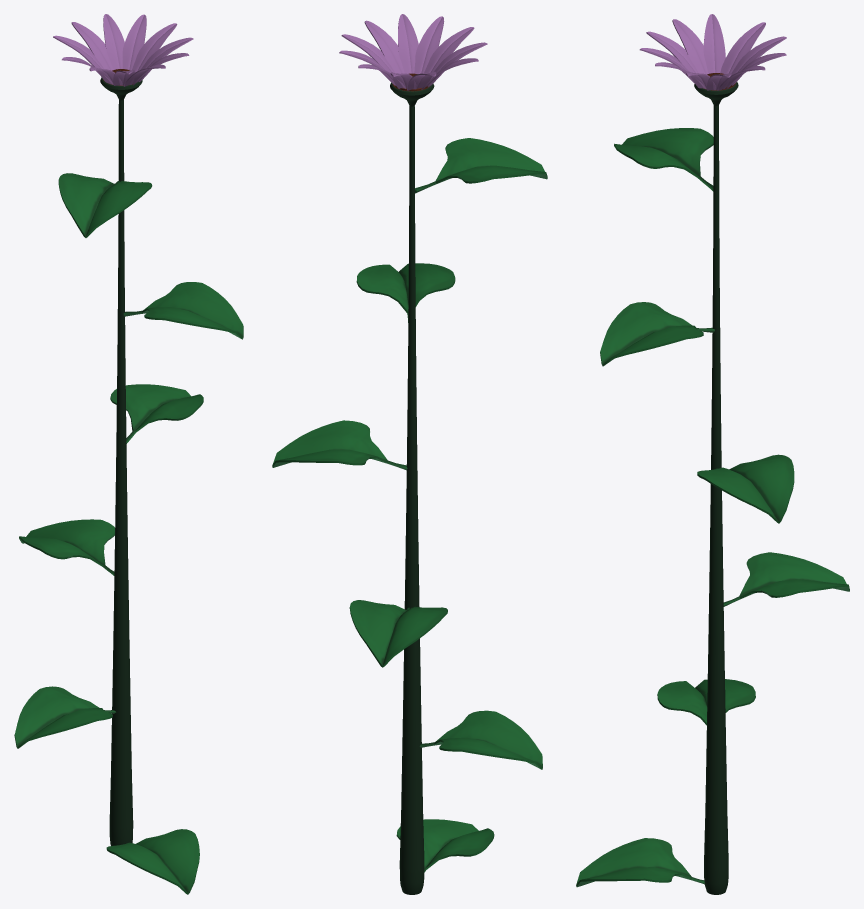
Rendered from ElderDaisy.fbx.
3 renders of one model, left to right at view 1: azimuth 30°, elevation 25°; view 2: azimuth 150°, elevation 25°; view 3: azimuth 270°, elevation 25°, orthographic. The views are drawn at different scales.
Visible parts, largest first — view 1: ElderDaisy; view 2: ElderDaisy; view 3: ElderDaisy.
Boxes of the visible parts, left/top/right/bottom form: ElderDaisy: left=14, top=14, right=243, bottom=894; ElderDaisy: left=272, top=14, right=547, bottom=894; ElderDaisy: left=576, top=14, right=849, bottom=894.
Bounding box in the file's own units: 1957 × 6902 × 2026.
1 material, 1 textured.
